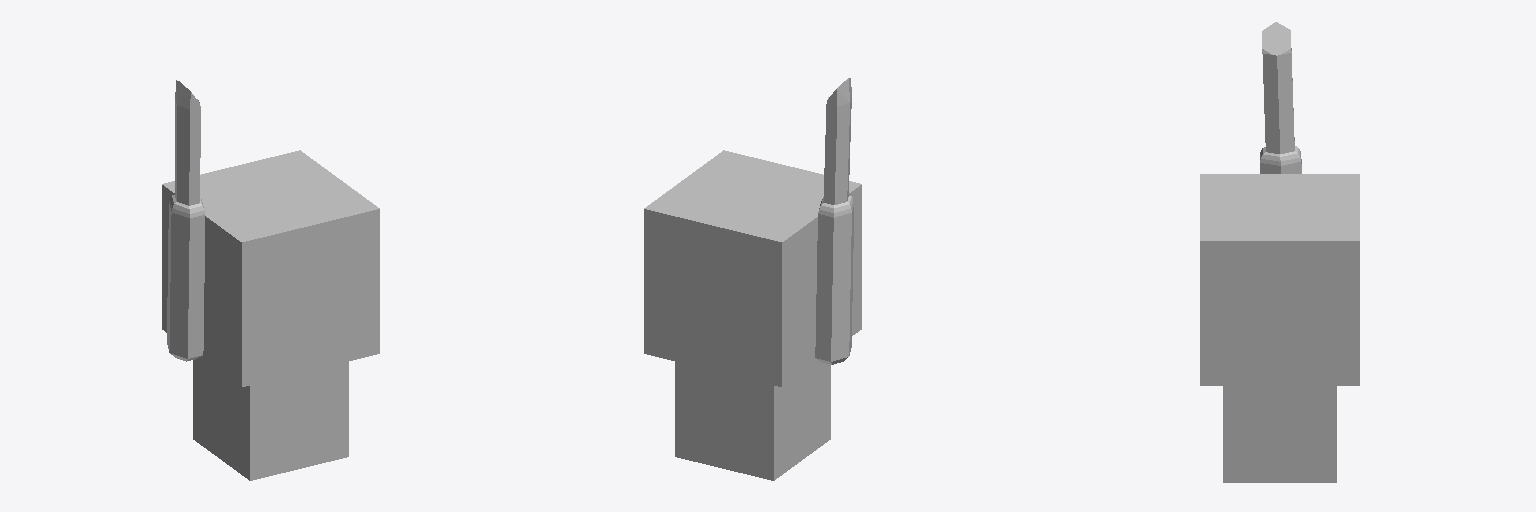
Rendered from L_SHOULDER_CASOESPECIAL.obj.
3 renders of one model, left to right at view 1: azimuth 30°, elevation 25°; view 2: azimuth 150°, elevation 25°; view 3: azimuth 270°, elevation 25°, orthographic.
Parts seen in each view (by area): view 1: group8 group pasted__pCube53, pasted__pCylinder32 group8 group; view 2: group8 group pasted__pCube53, pasted__pCylinder32 group8 group; view 3: group8 group pasted__pCube53, pasted__pCylinder32 group8 group.
Boxes of the visible parts, box(x1,y1,x2,y2) form: group8 group pasted__pCube53: box(162, 150, 379, 480); pasted__pCylinder32 group8 group: box(167, 80, 205, 361); group8 group pasted__pCube53: box(644, 150, 861, 480); pasted__pCylinder32 group8 group: box(815, 78, 853, 364); group8 group pasted__pCube53: box(1200, 174, 1359, 482); pasted__pCylinder32 group8 group: box(1260, 22, 1301, 173).
Size of the model in its own units: 1.46 by 3.24 by 1.2.